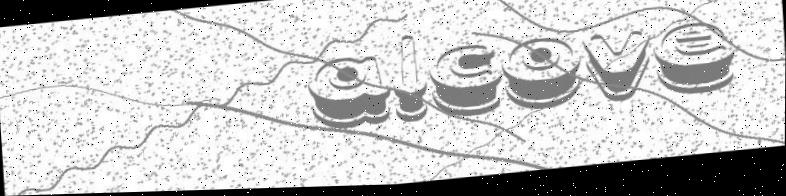a: (304, 54, 394, 134)
c: (426, 44, 504, 124)
e: (650, 23, 737, 103)
l: (389, 35, 431, 127)
o: (499, 36, 586, 116)
v: (580, 33, 654, 111)
